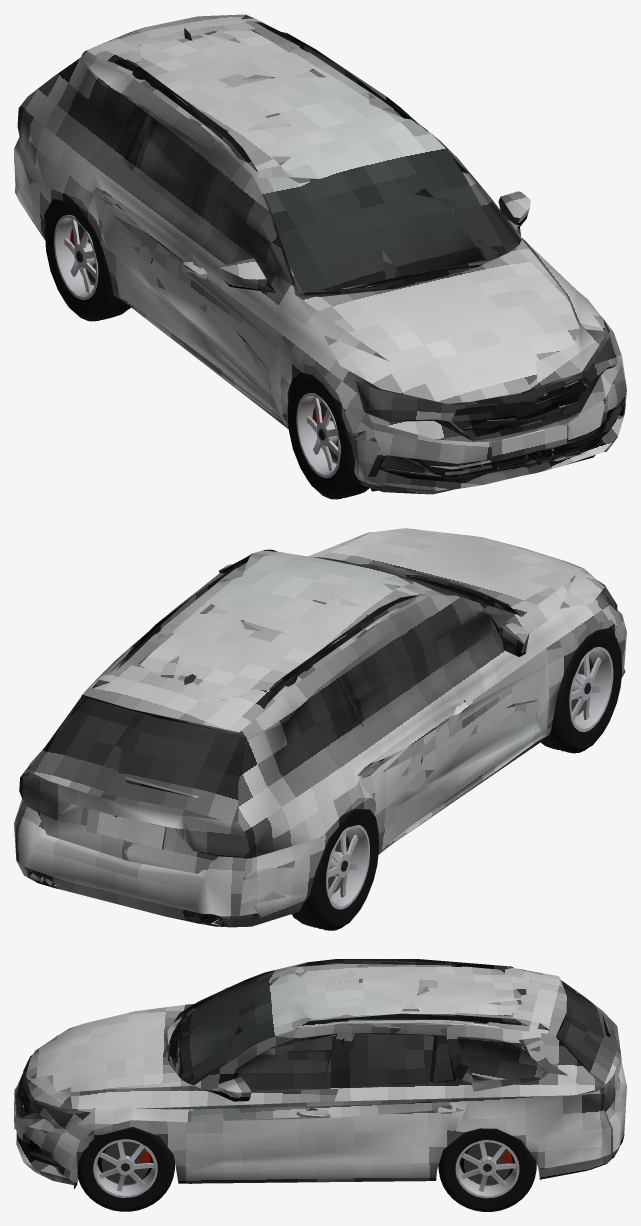
File: kombi_m.glb
3 views of the same model, one above another, from view 1: azimuth 30°, elevation 25°; view 2: azimuth 150°, elevation 25°; view 3: azimuth 270°, elevation 25° (orthographic). The views are drawn at different scales.
Visible parts, largest first — view 1: karosserie, rad_vr, rad_hr; view 2: karosserie, rad_vr, rad_hr; view 3: karosserie, rad_vl, rad_hl.
Part boxes in pixels (box(x1,y1,x2,y2)): karosserie: box(14, 14, 626, 494); rad_vr: box(287, 372, 369, 499); rad_hr: box(45, 199, 130, 321); karosserie: box(14, 528, 626, 927); rad_vr: box(540, 628, 622, 753); rad_hr: box(292, 809, 378, 930); karosserie: box(14, 959, 626, 1188); rad_vl: box(77, 1127, 174, 1211); rad_hl: box(438, 1128, 536, 1211).
Size of the model in its own units: 2 by 1.5 by 4.7.
3 materials, 1 textured.
